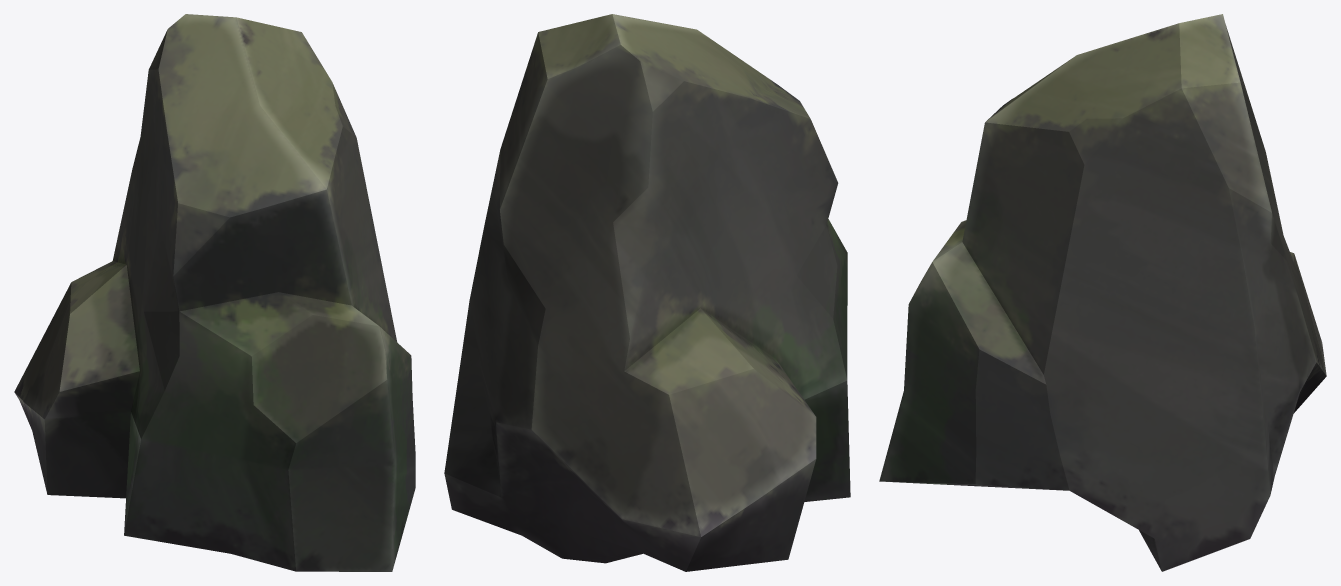
The model's file is Rock_1.gltf.
3 renders of one model, left to right at view 1: azimuth 30°, elevation 25°; view 2: azimuth 150°, elevation 25°; view 3: azimuth 270°, elevation 25°, orthographic. The views are drawn at different scales.
Visible parts, largest first — view 1: Rock_1; view 2: Rock_1; view 3: Rock_1.
Boxes of the visible parts, box(x1,y1,x2,y2) form: Rock_1: box(14, 14, 415, 571); Rock_1: box(444, 14, 850, 571); Rock_1: box(879, 14, 1326, 571).
Bounding box in the file's own units: 1.42 × 2.16 × 1.77.
1 material, 1 textured.
